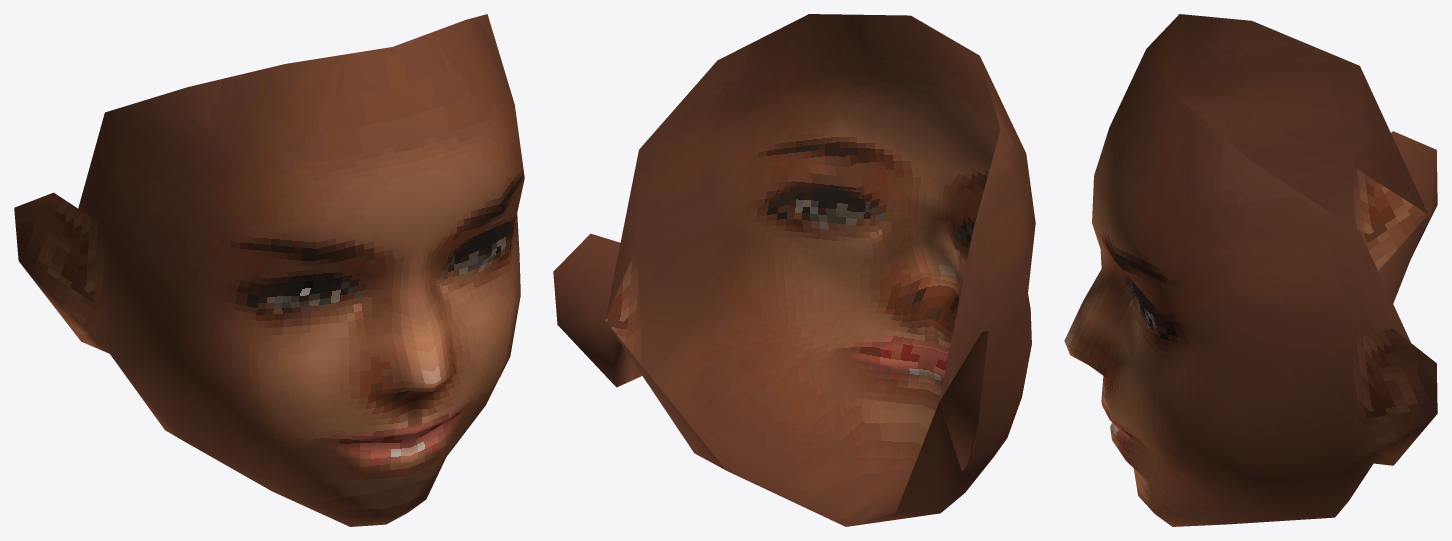
Rendered from f_hair011.glb.
The picture shows the model from 3 angles, left to right: view 1: azimuth 30°, elevation 25°; view 2: azimuth 150°, elevation 25°; view 3: azimuth 270°, elevation 25°; orthographic projection. The views are drawn at different scales.
Bounding box in the file's own units: 19.4 × 20.01 × 14.34.
Materials: 1 (1 with a texture image).
